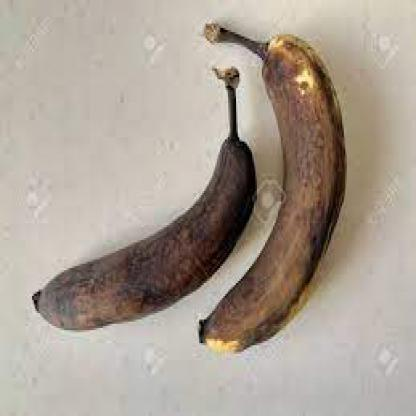banana_rotten: (199, 8, 360, 396)
